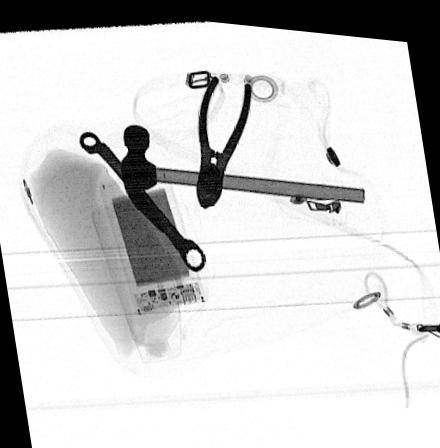Hammer: (119, 121, 364, 228)
Pliers: (197, 69, 253, 204)
Powerbank: (97, 165, 208, 313)
Wrench: (78, 130, 207, 267)
